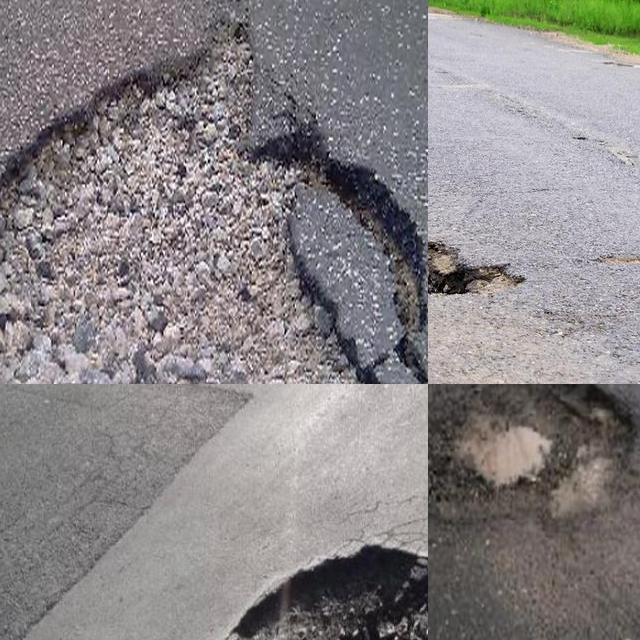Lubang: (0, 14, 426, 384), (428, 384, 629, 534), (224, 553, 428, 640), (428, 242, 521, 299)
